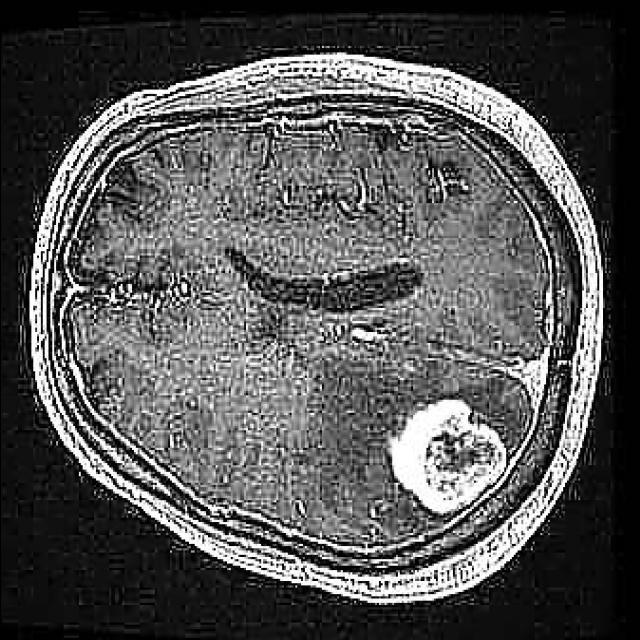tumor: (382, 395, 507, 518)
